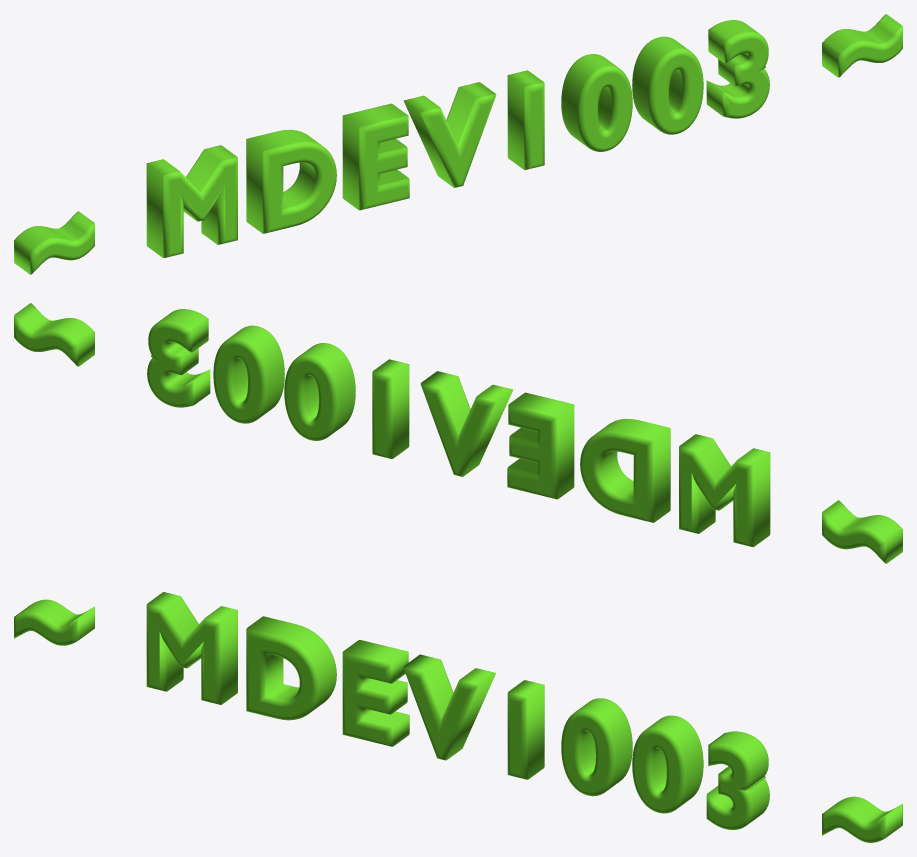
Rendered from NameIn3Dballoon.fbx.
3 views of the same model, one above another, from view 1: azimuth 30°, elevation 25°; view 2: azimuth 150°, elevation 25°; view 3: azimuth 330°, elevation 25° (orthographic).
Visible parts, largest first — view 1: Text; view 2: Text; view 3: Text.
Boxes of the visible parts, x1,y1,x2,y2 form: Text: (14, 14, 902, 274); Text: (14, 303, 902, 563); Text: (14, 592, 902, 842).
Bounding box in the file's own units: 861 × 80.04 × 36.
